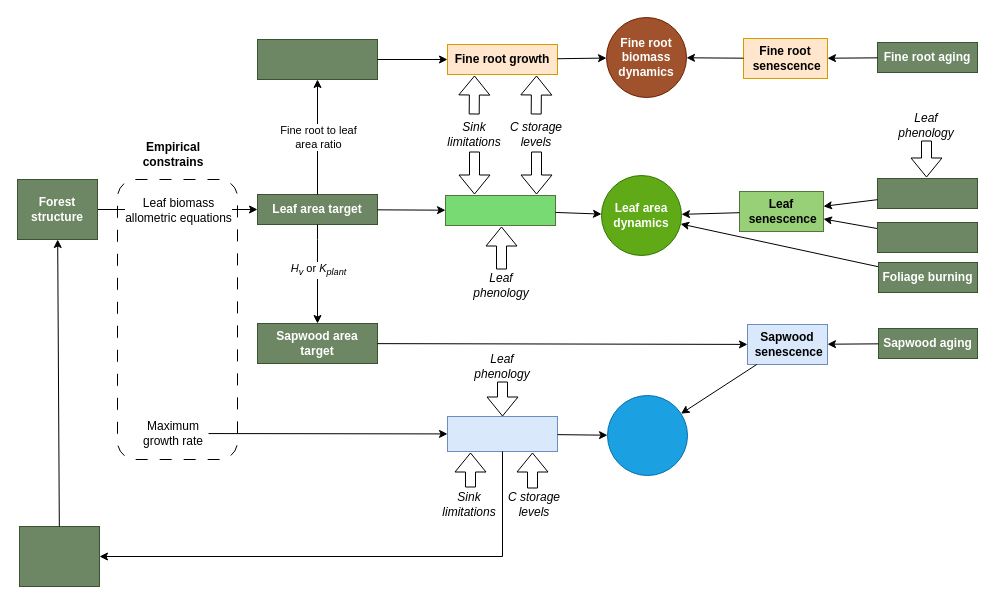
Image size: 995x604. Some labels were removed from this diagram. The centre of each missing label's shape, as x and y in pixels:
Diameter increase: pixel 59 556
Fine root biomass target: pixel 317 59
Leaf aging: pixel 927 193
Leaf dessication: pixel 927 237
Leaf growth: pixel 500 210
Sapwood area dynamics: pixel 647 435
Sapwood growth: pixel 502 434
